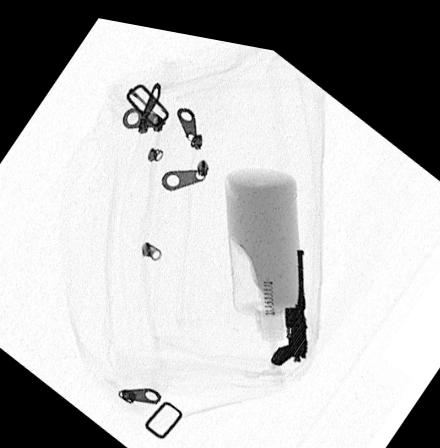Gun: (268, 237, 309, 356)
